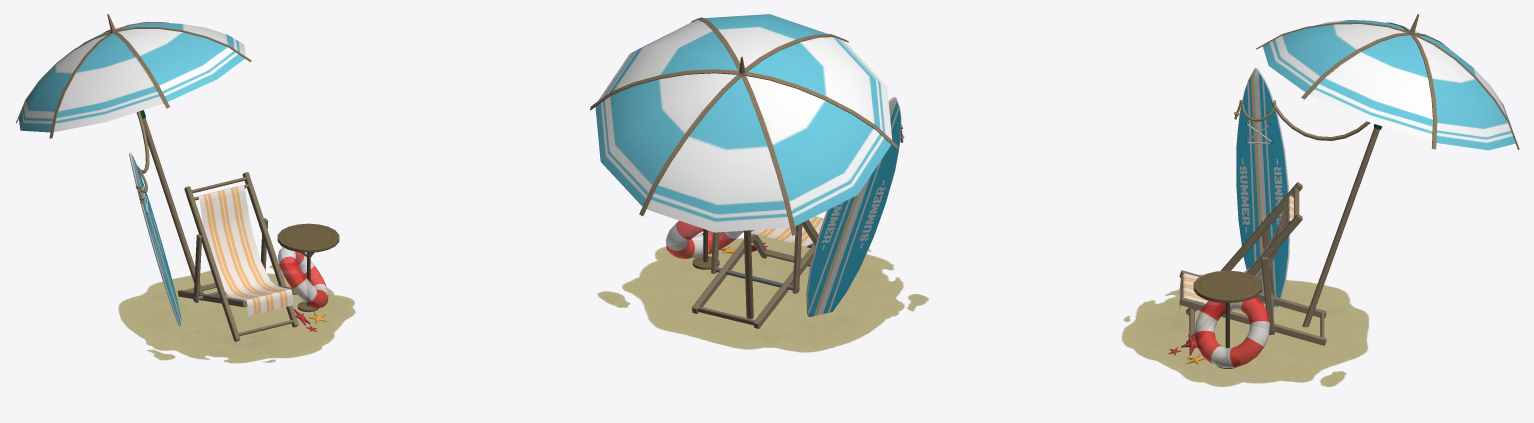
Rendered from chair.glb.
3 views of the same model, side by side, from view 1: azimuth 30°, elevation 25°; view 2: azimuth 150°, elevation 25°; view 3: azimuth 270°, elevation 25° (orthographic). The views are drawn at different scales.
Parts seen in each view (by area): view 1: polySurface17, pPlane2, pPlane1, pCube26, pCube25, pTorus1, polySurface6, polySurface14; view 2: polySurface17, pPlane2, polySurface6, pCube26, pTorus1, pPlane1, polySurface14; view 3: polySurface17, pPlane2, polySurface6, pCube26, pTorus1, pCube25, polySurface14, pPlane1, pCylinder23.
Part boxes in pixels (x1,y1,x2,y2): polySurface17: [16, 14, 251, 138]; pPlane2: [118, 263, 355, 363]; pPlane1: [198, 185, 293, 316]; pCube26: [177, 172, 298, 341]; pCube25: [277, 223, 339, 312]; pTorus1: [277, 247, 328, 308]; polySurface6: [129, 152, 181, 326]; polySurface14: [142, 118, 203, 300]; polySurface17: [590, 14, 897, 235]; pPlane2: [597, 236, 929, 352]; polySurface6: [806, 97, 901, 316]; pCube26: [691, 219, 818, 328]; pTorus1: [665, 220, 743, 259]; pPlane1: [751, 216, 823, 246]; polySurface14: [743, 230, 753, 318]; polySurface17: [1256, 14, 1519, 150]; pPlane2: [1121, 274, 1368, 386]; polySurface6: [1236, 68, 1289, 307]; pCube26: [1179, 182, 1326, 347]; pTorus1: [1194, 297, 1269, 367]; pCube25: [1193, 270, 1261, 368]; polySurface14: [1302, 127, 1379, 327]; pPlane1: [1179, 196, 1293, 312]; pCylinder23: [1234, 103, 1370, 140].
Bounding box in the file's own units: 0.2974 × 0.2598 × 0.36.
1 material, 1 textured.
